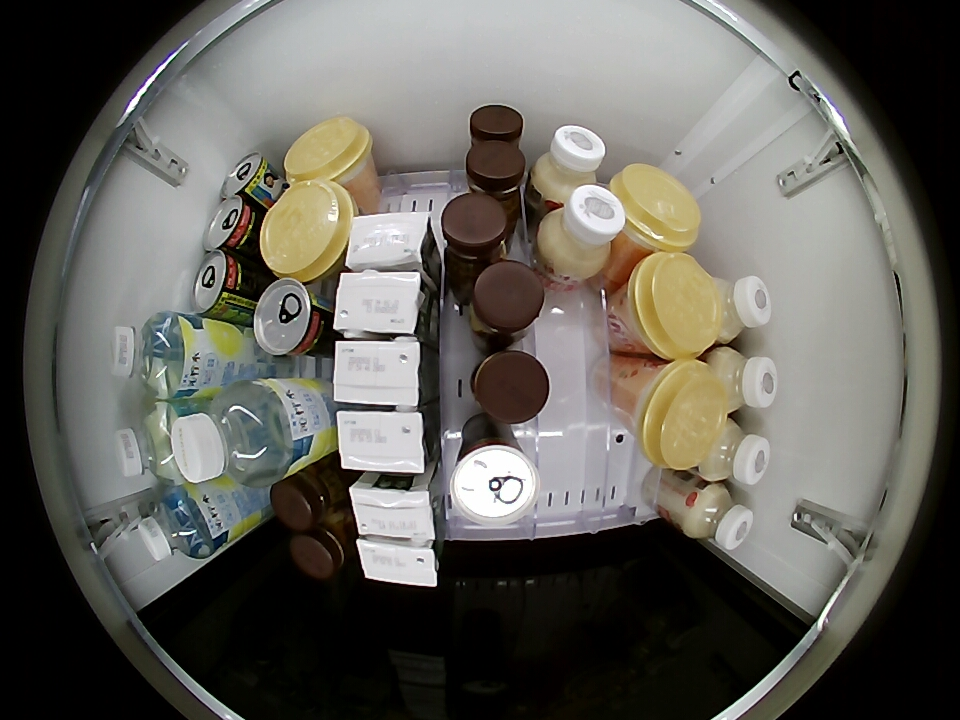jindian: (331, 338, 432, 408), (332, 269, 430, 338), (334, 407, 433, 474), (349, 476, 438, 541), (345, 210, 430, 271), (355, 534, 441, 587)
lujikafei: (463, 260, 545, 342), (439, 194, 514, 276), (470, 347, 550, 423), (272, 461, 346, 530), (290, 513, 357, 579), (465, 142, 526, 203), (468, 104, 525, 151)
qinningshui: (170, 384, 288, 486), (109, 312, 190, 398), (115, 403, 188, 485), (137, 488, 216, 561)
weiweidounai: (537, 183, 627, 278), (531, 124, 607, 203), (704, 347, 778, 412), (683, 482, 754, 549), (699, 418, 769, 485), (718, 275, 770, 347)
yezhi: (448, 432, 541, 529), (253, 278, 329, 357), (192, 251, 250, 318), (202, 196, 259, 254), (220, 152, 275, 202)
youlemei: (629, 359, 726, 471), (623, 252, 718, 359), (260, 181, 356, 280), (610, 164, 701, 253), (284, 117, 374, 188)
